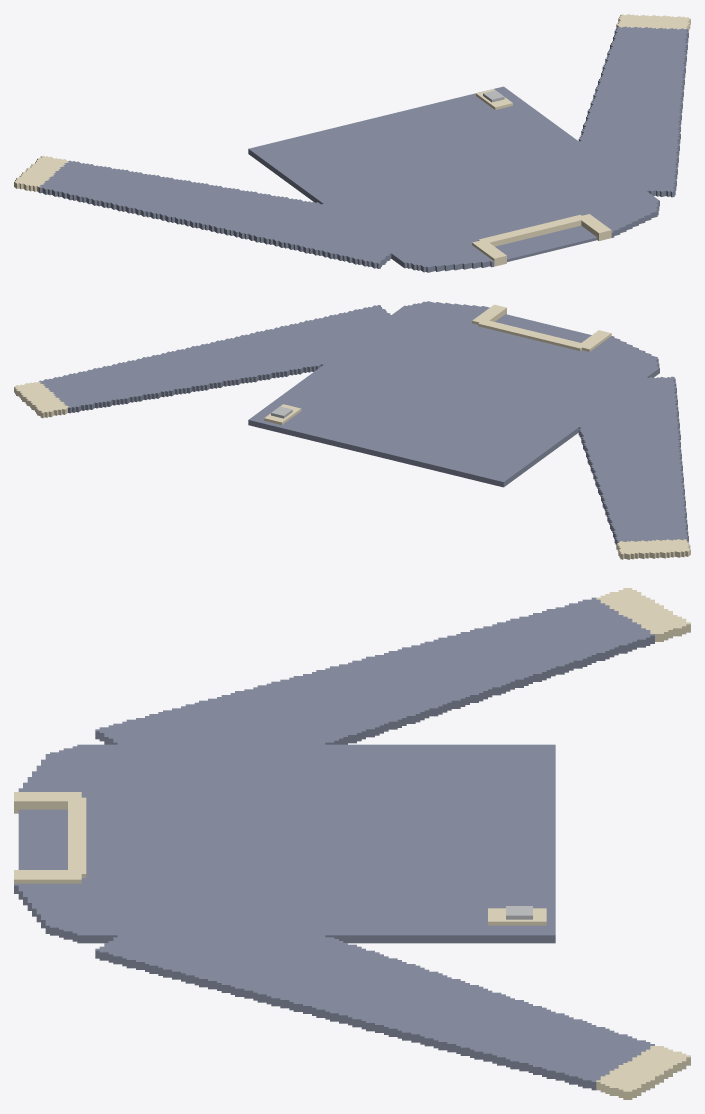
The model's file is lame_saber.glb.
3 renders of one model, top to bottom at view 1: azimuth 30°, elevation 25°; view 2: azimuth 150°, elevation 25°; view 3: azimuth 270°, elevation 25°, orthographic. The views are drawn at different scales.
Parts seen in each view (by area): view 1: lame_saber:compound; view 2: lame_saber:compound; view 3: lame_saber:compound.
Boxes of the visible parts, x1,y1,x2,y2 form: lame_saber:compound: [14, 14, 690, 272]; lame_saber:compound: [14, 301, 690, 559]; lame_saber:compound: [14, 588, 690, 1099].
Size of the model in its own units: 1.06 by 0.016 by 0.6.
